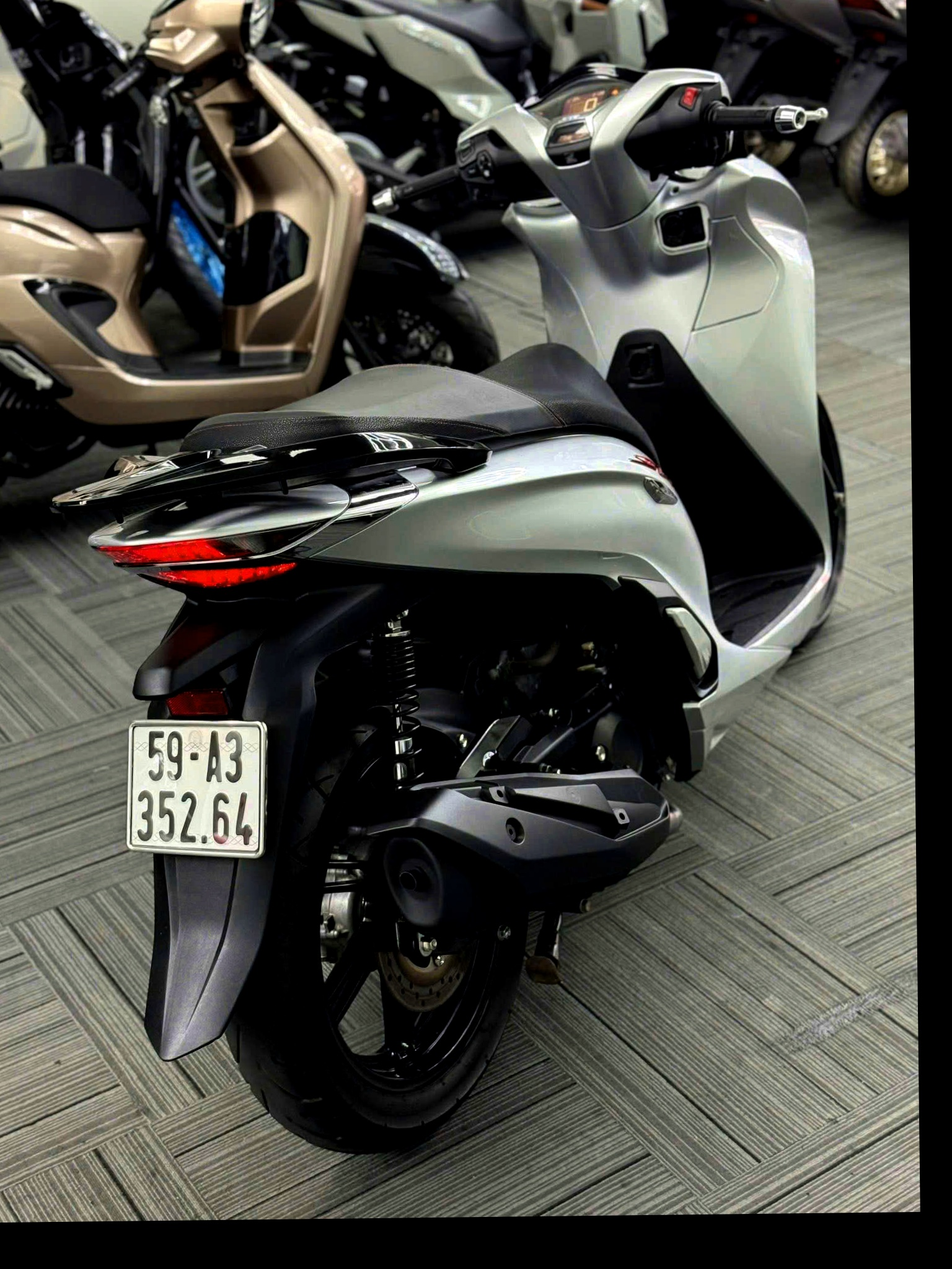Bien-so: (141, 787, 306, 937)
